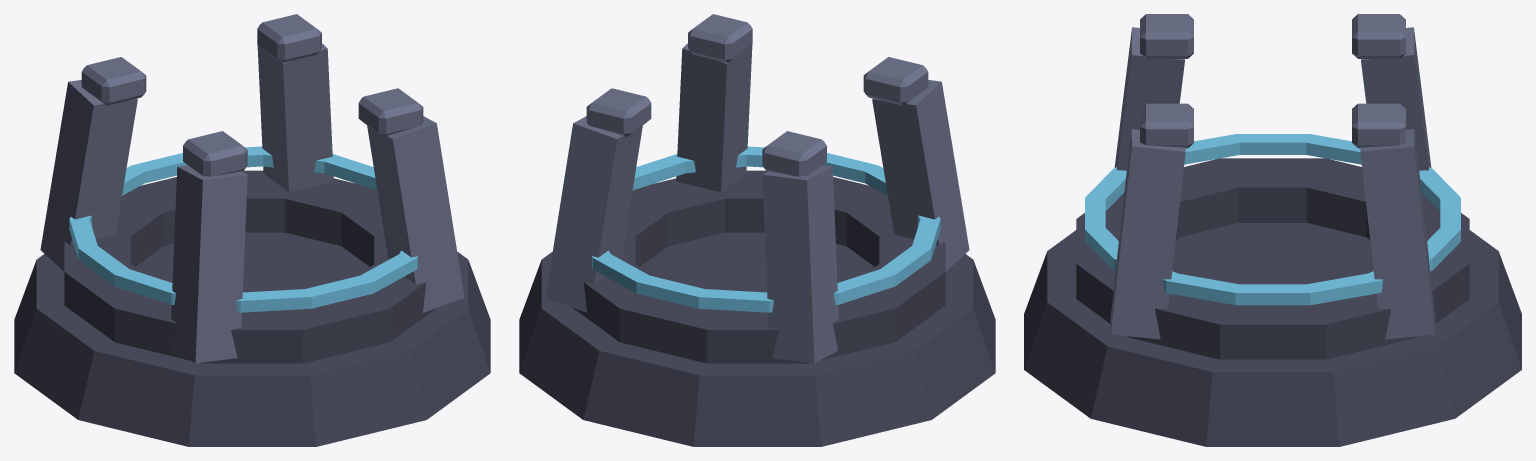
The model's file is AnchorPedestal.fbx.
The picture shows the model from 3 angles, left to right: view 1: azimuth 30°, elevation 25°; view 2: azimuth 150°, elevation 25°; view 3: azimuth 270°, elevation 25°; orthographic projection. The views are drawn at different scales.
Parts seen in each view (by area): view 1: Anchor_Plinth, Anchor_Claws, Anchor_Halo; view 2: Anchor_Plinth, Anchor_Claws, Anchor_Halo; view 3: Anchor_Plinth, Anchor_Claws, Anchor_Halo.
Part boxes in pixels (<box>): Anchor_Plinth: <box>14,170,490,446</box>; Anchor_Claws: <box>40,14,464,363</box>; Anchor_Halo: <box>69,146,418,312</box>; Anchor_Plinth: <box>519,170,995,446</box>; Anchor_Claws: <box>545,14,969,363</box>; Anchor_Halo: <box>591,146,940,312</box>; Anchor_Plinth: <box>1024,158,1521,446</box>; Anchor_Claws: <box>1110,14,1435,339</box>; Anchor_Halo: <box>1085,134,1460,305</box>.
Size of the model in its own units: 1.66 by 1.01 by 1.66.
